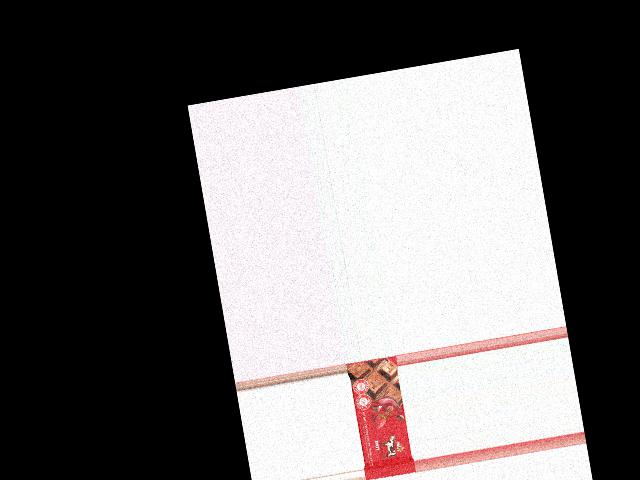chocolate: (345, 356, 415, 480)
